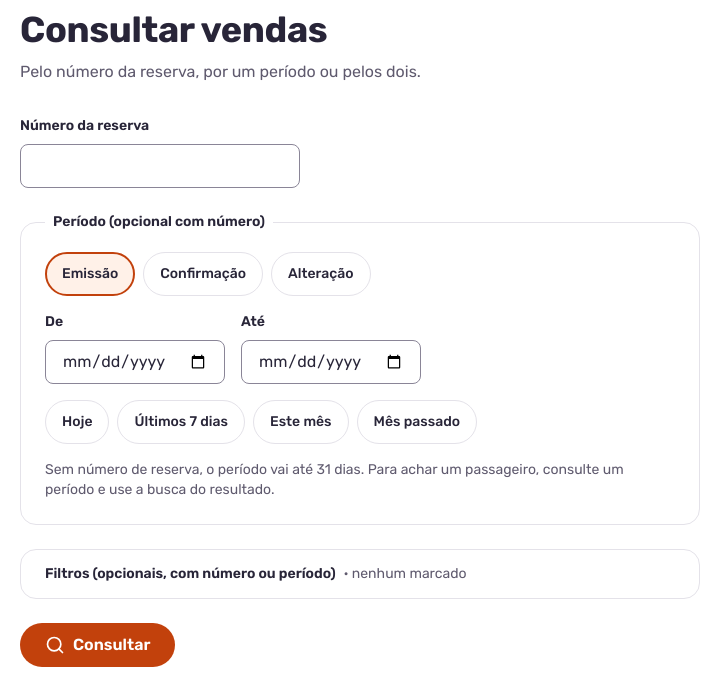
Test case: colar número com pontos mantém só os dígitos; letras somem
This screenshot has width=717, height=684.
Click the field labelled "Número da reserva" at (160, 166), box [20,144,300,188]
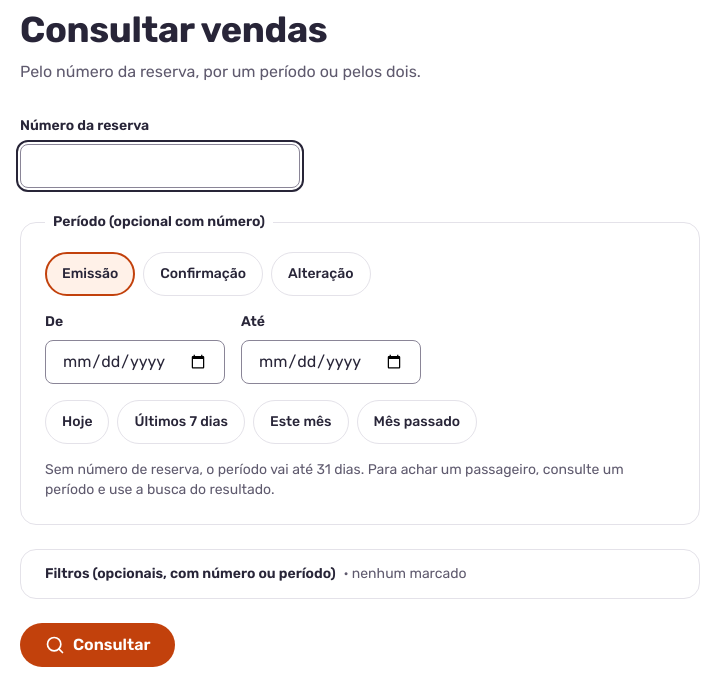
Type keys "9.000.000-1"
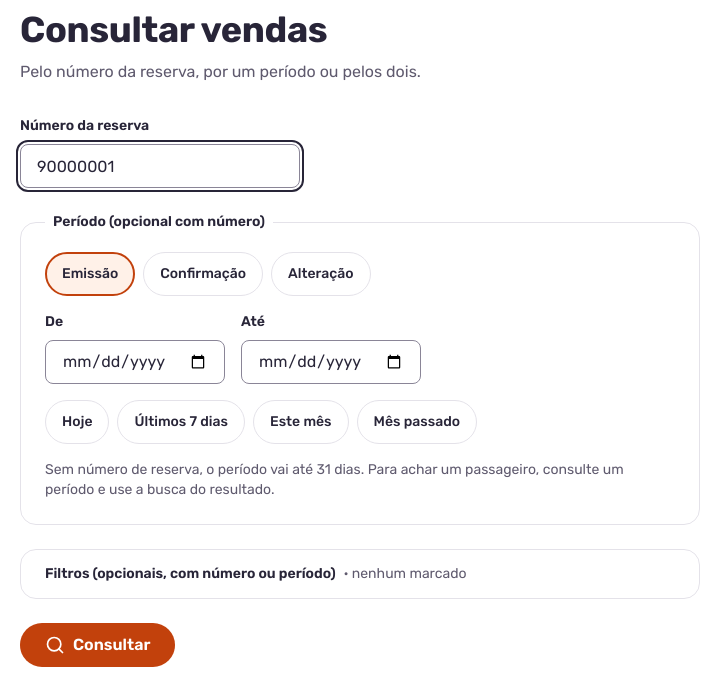
Check: the field labelled "Número da reserva" holds "90000001"
Replace the text in the field labelled "Número da reserva" with "9000x" at (160, 166), box [20,144,300,188]
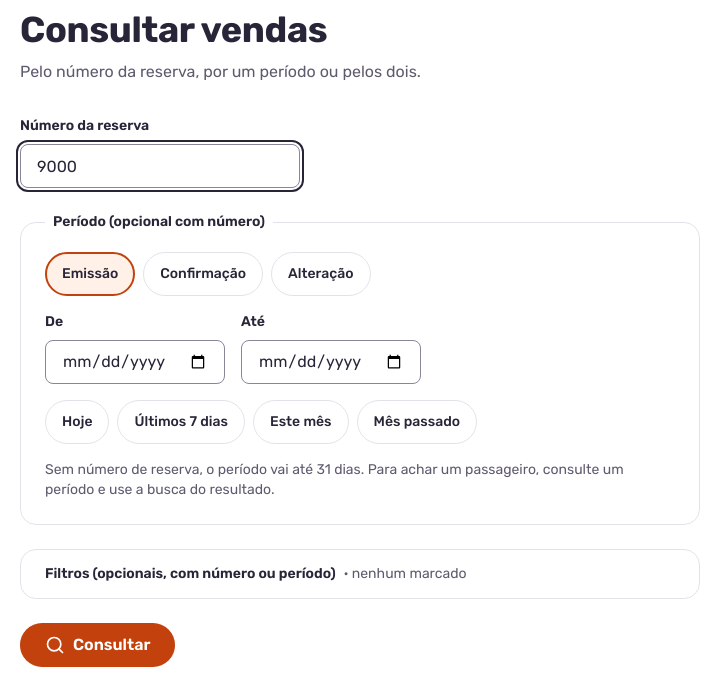
Check: the field labelled "Número da reserva" holds "9000", box [20,144,300,188]
